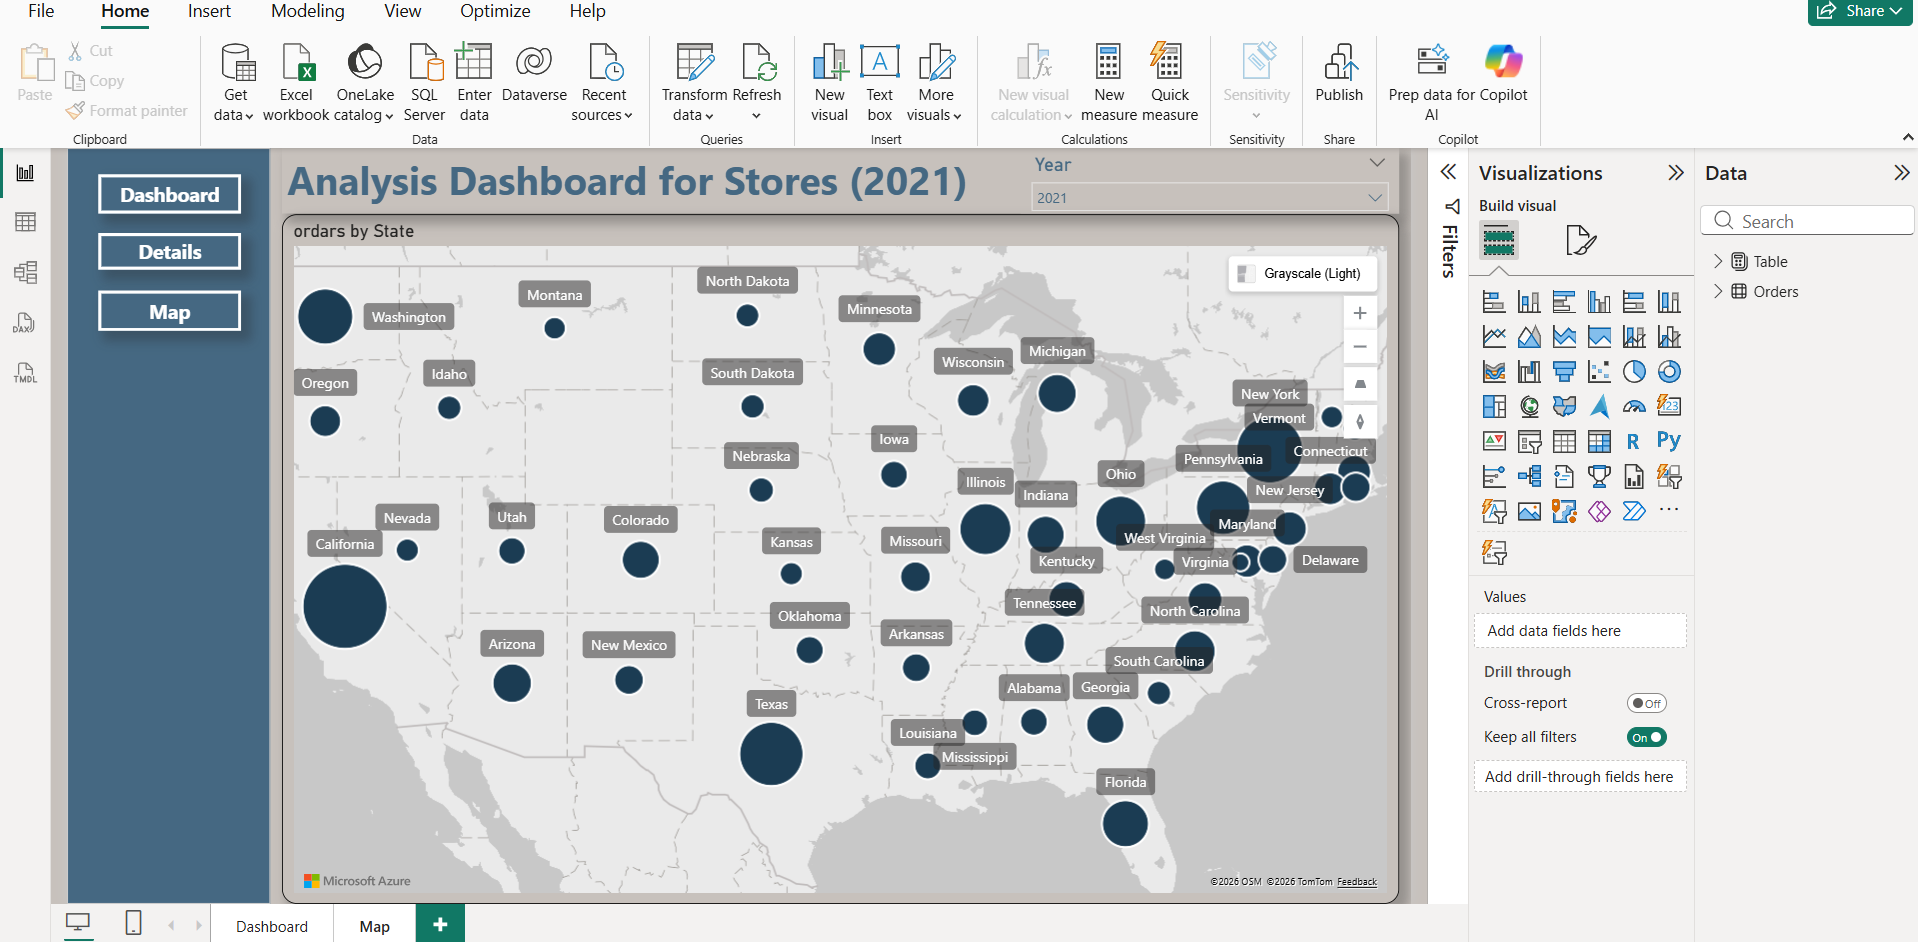

Layout of this report page (visuals, bound fields, positions):
{"tool":"powerbi","page":{"name":"Map","canvas":[1280,720],"ordinal":1},"visuals":[{"type":"shape","box":[0,0,193.8,720],"z":0},{"type":"actionButton","box":[30,25,136.2,37.5],"z":1000},{"type":"actionButton","box":[30,136.2,136.2,38.8],"z":2000},{"type":"actionButton","box":[30,81.2,136.2,35],"z":3000},{"type":"textbox","box":[205,0,1063.8,62.5],"z":4000},{"type":"slicer","fields":{"Values":["Orders.Order Date.Variation.Date Hierarchy.Year"]},"box":[908.8,0,360,62.5],"z":5000},{"type":"azureMap","fields":{"Size":["Table.ordars"],"Category":["Orders.State"]},"box":[205,63,1064,657],"z":6000}]}

Visuals, with their boxes on the page's 1280x720 design canvas (x1, y1, x2, y2). These are canvas units, not pixel positions in the 1918x942 screenshot, which may show the page scaled, cropped or inside an application window:
shape: 0/0/194/720
actionButton: 30/25/166/62
actionButton: 30/136/166/175
actionButton: 30/81/166/116
textbox: 205/0/1269/62
slicer - Orders.Order Date.Variation.Date Hierarchy.Year: 909/0/1269/62
azureMap - Table.ordars x Orders.State: 205/63/1269/720
